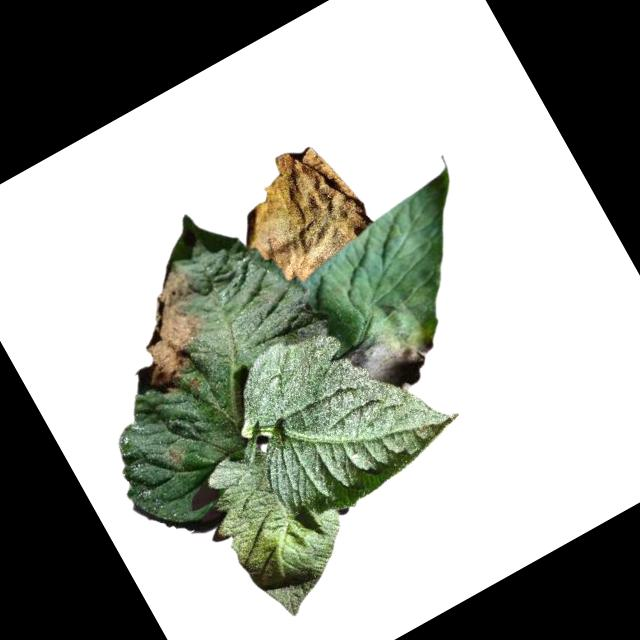Late_blight: (210, 129, 383, 300), (85, 256, 237, 411), (344, 310, 447, 405), (159, 437, 193, 471)
healthy: (209, 283, 473, 539), (190, 425, 371, 629)
